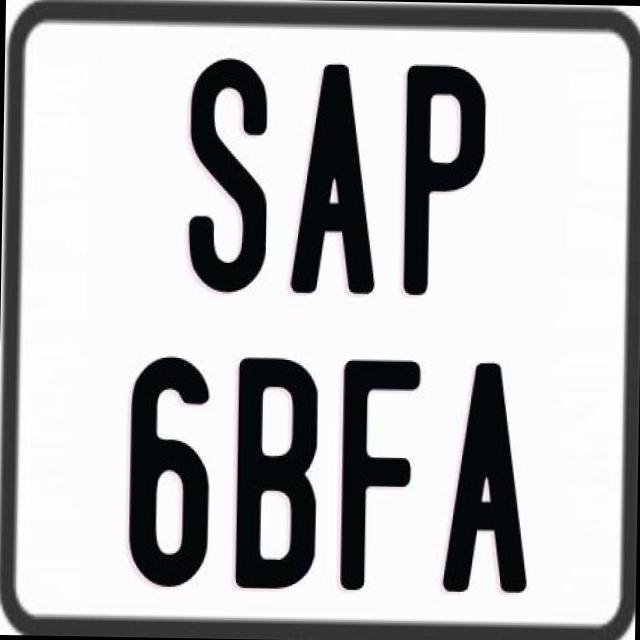6: (124, 354, 210, 584)
A: (438, 358, 533, 592), (288, 64, 377, 296)
B: (232, 356, 321, 590)
F: (338, 356, 426, 596)
P: (400, 62, 490, 302)
S: (183, 52, 265, 290)
